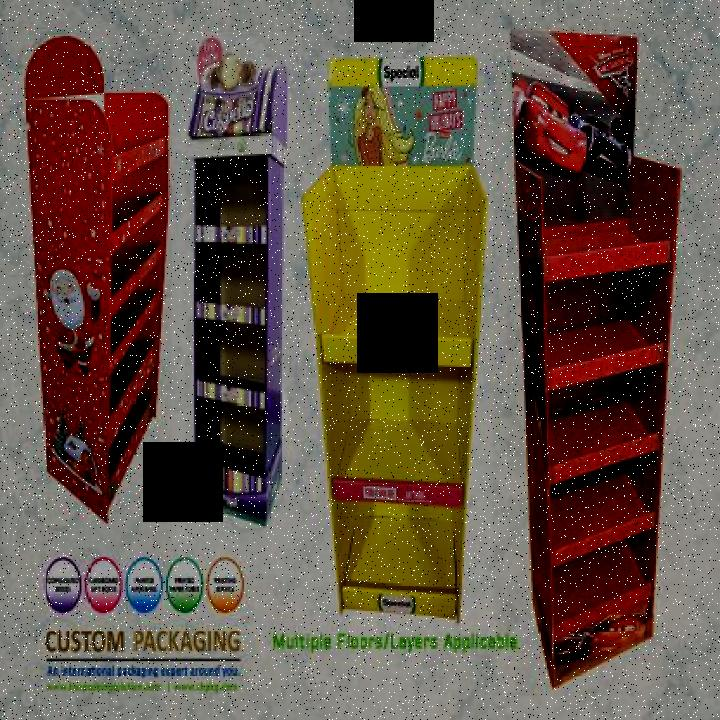box: (507, 17, 685, 696), (295, 52, 493, 635), (18, 22, 172, 538), (172, 32, 302, 574)
